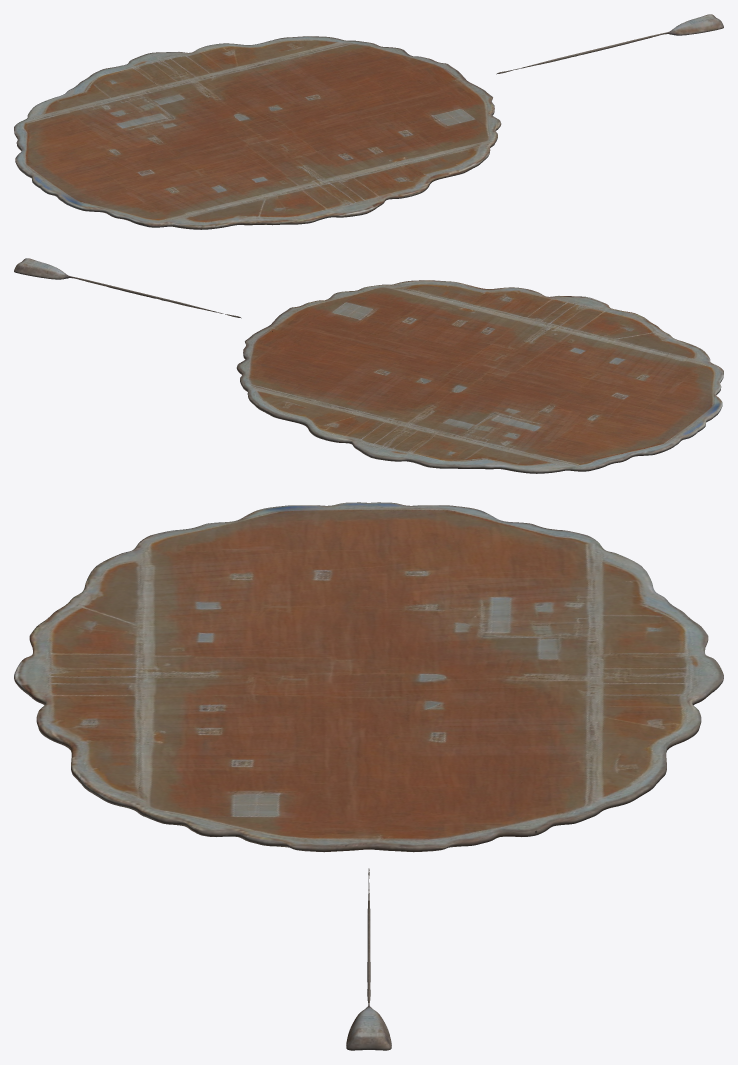
3 renders of one model, top to bottom at view 1: azimuth 30°, elevation 25°; view 2: azimuth 150°, elevation 25°; view 3: azimuth 270°, elevation 25°, orthographic. The views are drawn at different scales.
Parts seen in each view (by area): view 1: file1; view 2: file1; view 3: file1.
Boxes of the visible parts, left/top/right/bottom form: file1: left=14, top=14, right=723, bottom=229; file1: left=14, top=258, right=723, bottom=473; file1: left=14, top=502, right=723, bottom=1050.
Bounding box in the file's own units: 2 × 0.023 × 1.1.
Materials: 1 (1 with a texture image).
